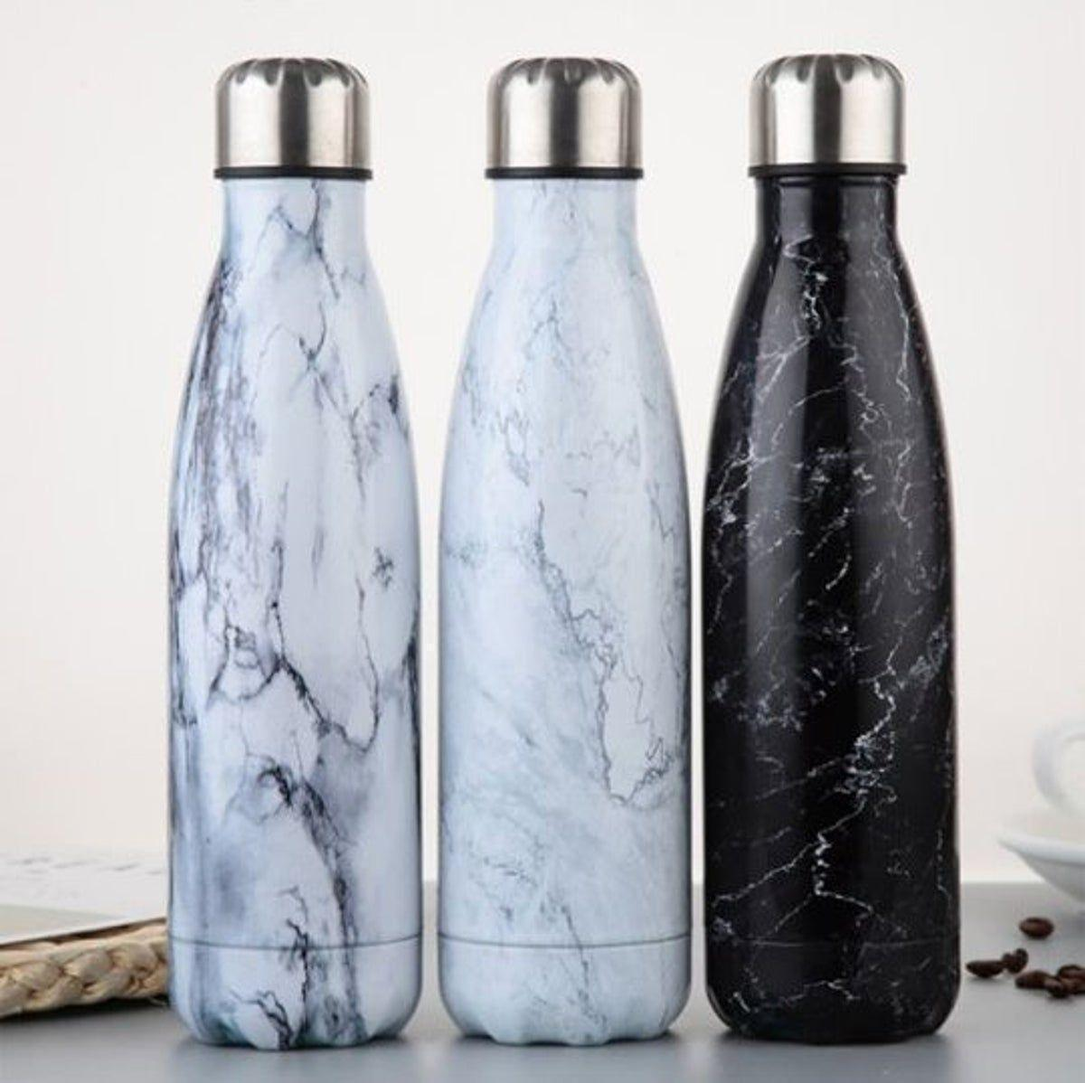gym bottle: (157, 48, 429, 1058), (703, 44, 966, 1044), (438, 44, 693, 1059)
